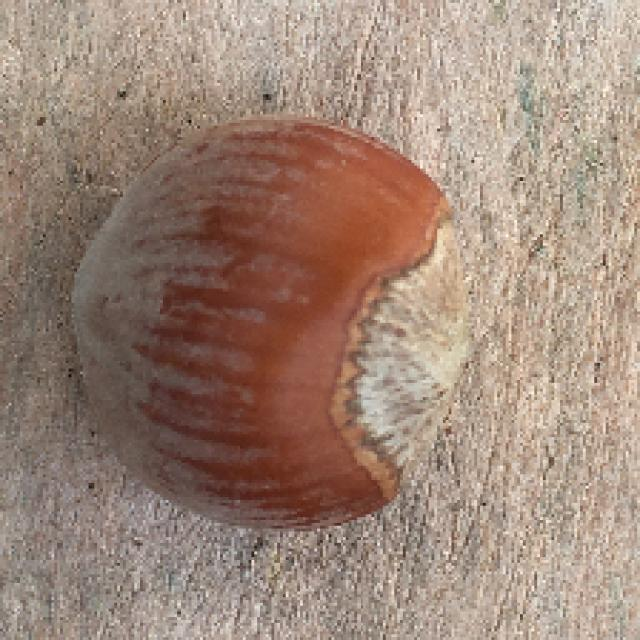qualityHazelnut: (70, 111, 478, 535)
